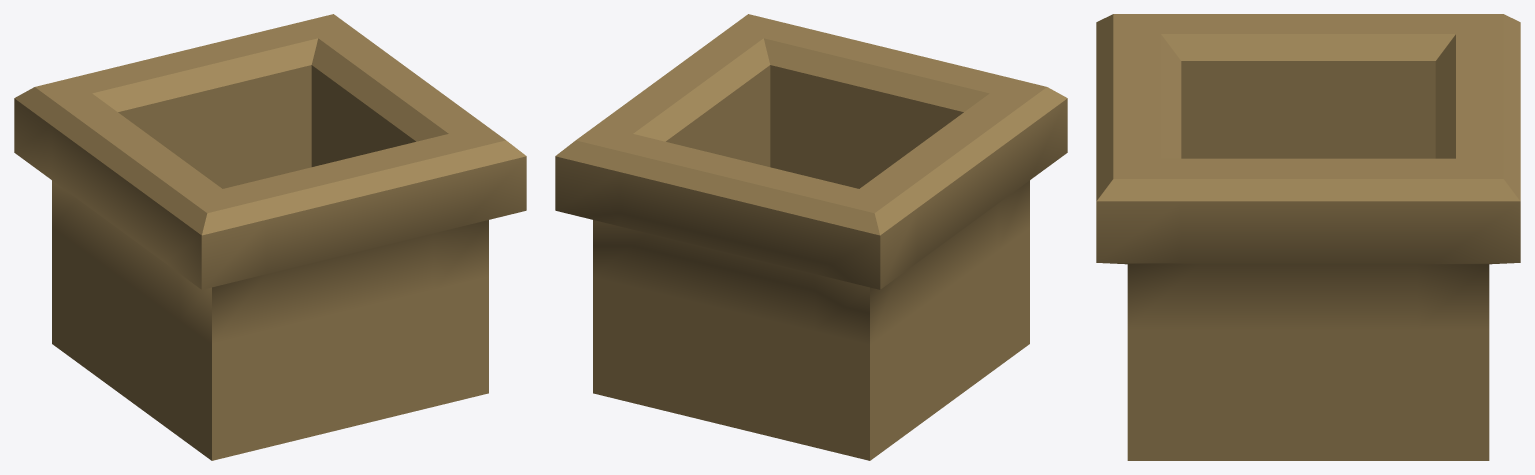
Rendered from ゴミ箱.fbx.
3 renders of one model, left to right at view 1: azimuth 30°, elevation 25°; view 2: azimuth 150°, elevation 25°; view 3: azimuth 270°, elevation 25°, orthographic. The views are drawn at different scales.
Visible parts, largest first — view 1: pCube1; view 2: pCube1; view 3: pCube1.
Part boxes in pixels (x1=…): pCube1: x1=14, y1=14, x2=526, y2=460; pCube1: x1=555, y1=14, x2=1067, y2=460; pCube1: x1=1096, y1=14, x2=1520, y2=460.
Size of the model in its own units: 7.65 by 5.74 by 7.65.
